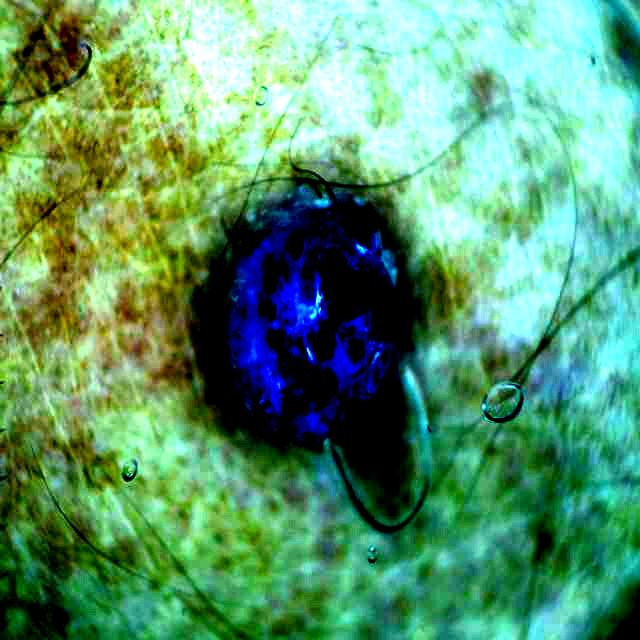VASC: (225, 193, 398, 444)
